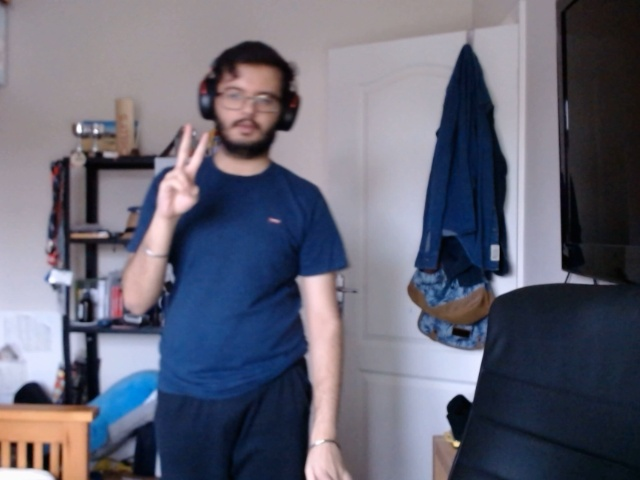Peace: (138, 119, 227, 229)
